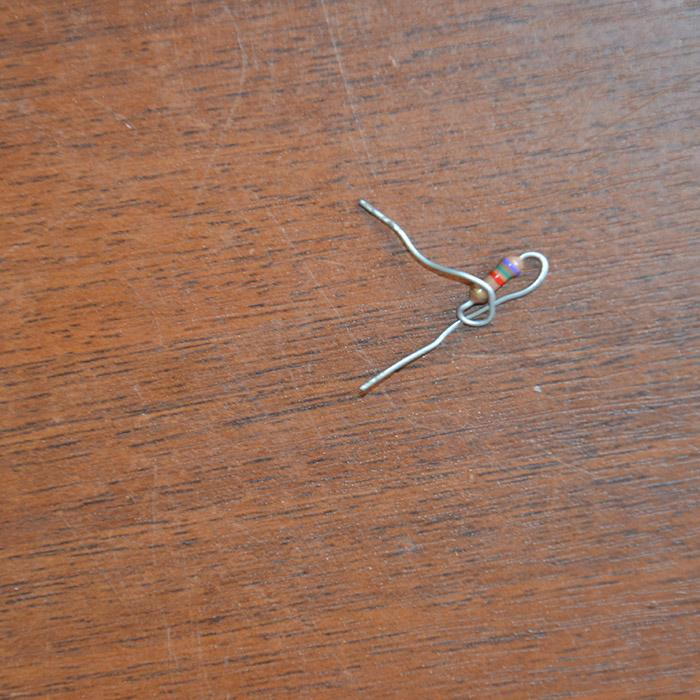resistor: (472, 252, 532, 301)
